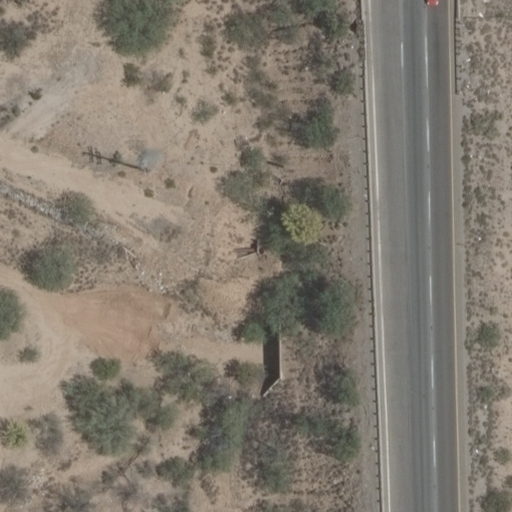DT: (135, 155, 158, 175)
